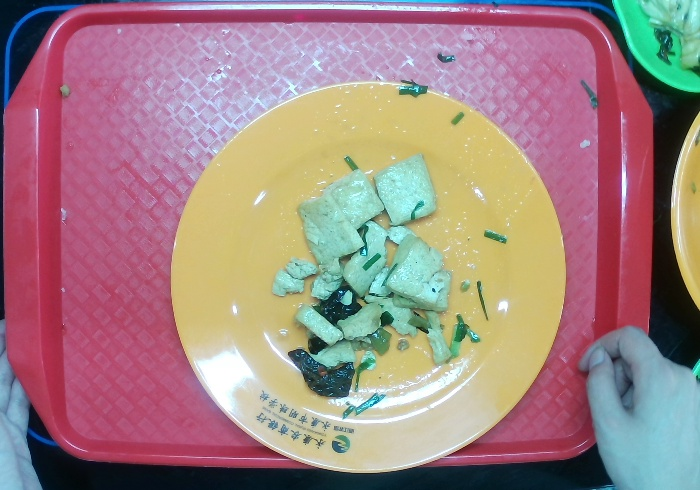YKMZ-Ju_Se_Mian_Pan: (167, 81, 568, 471)
